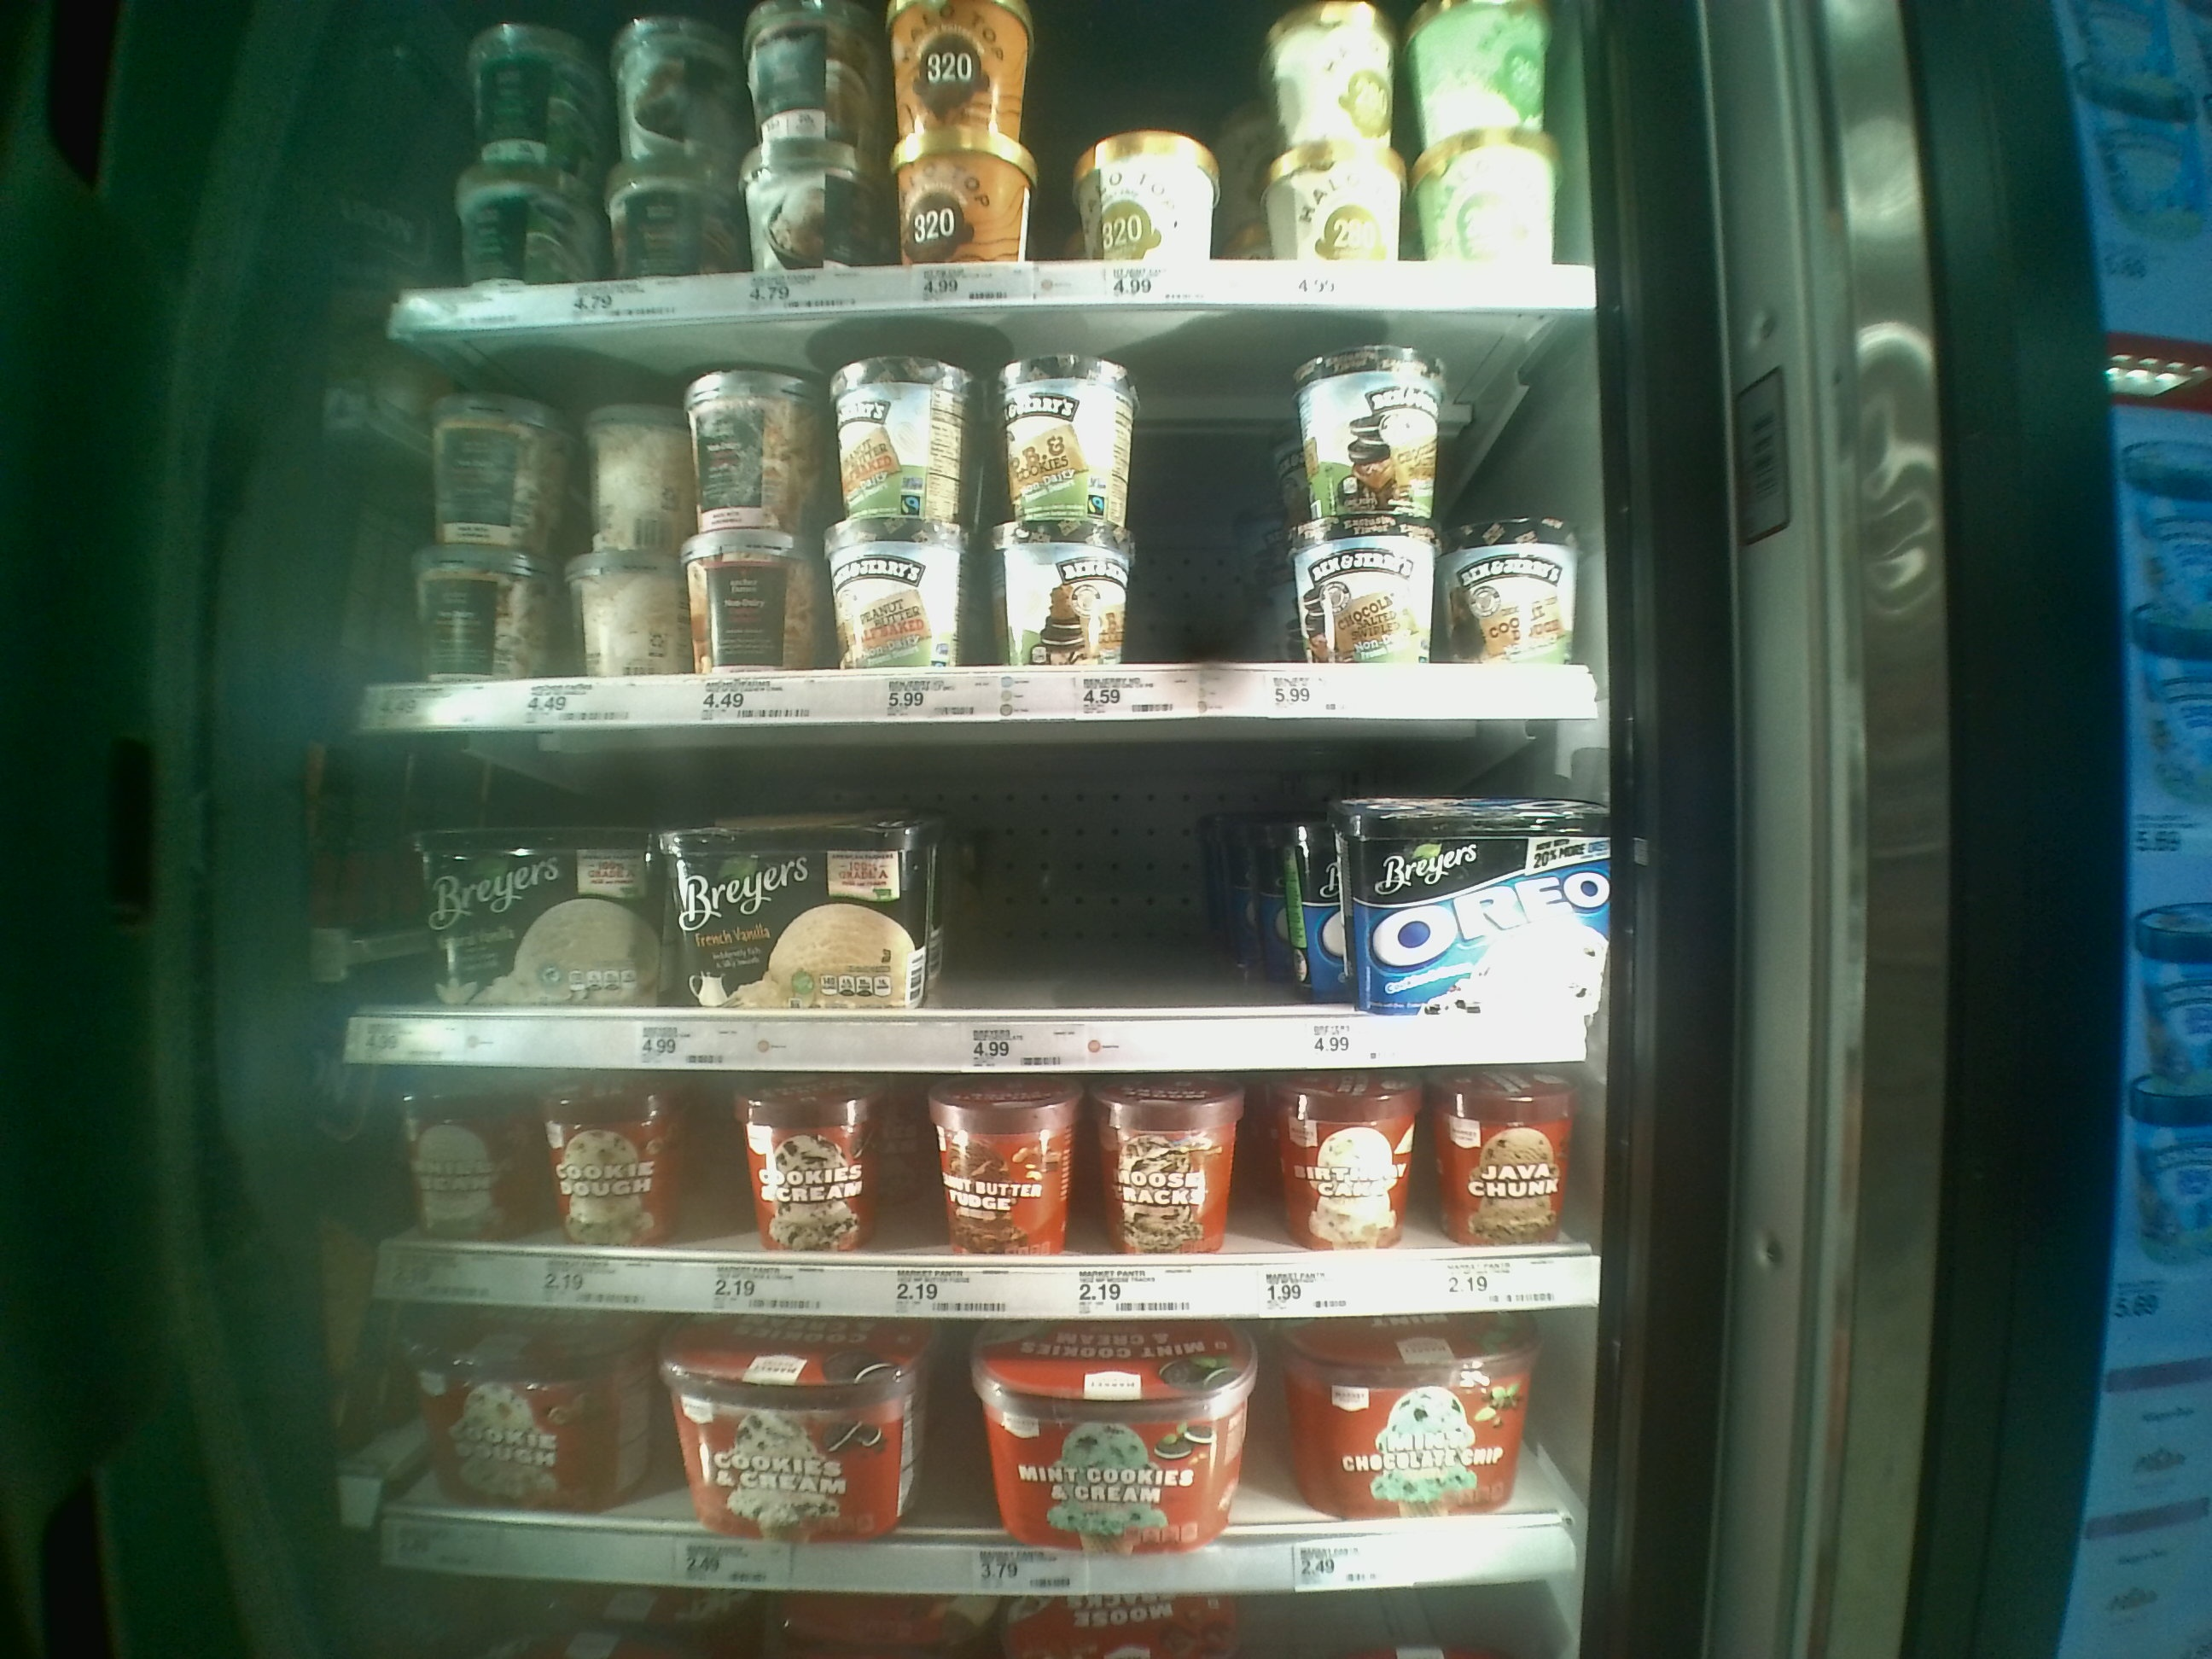shelf: (371, 312, 1609, 718), (361, 723, 1606, 1065), (359, 1310, 1587, 1582), (361, 1068, 1599, 1309)
